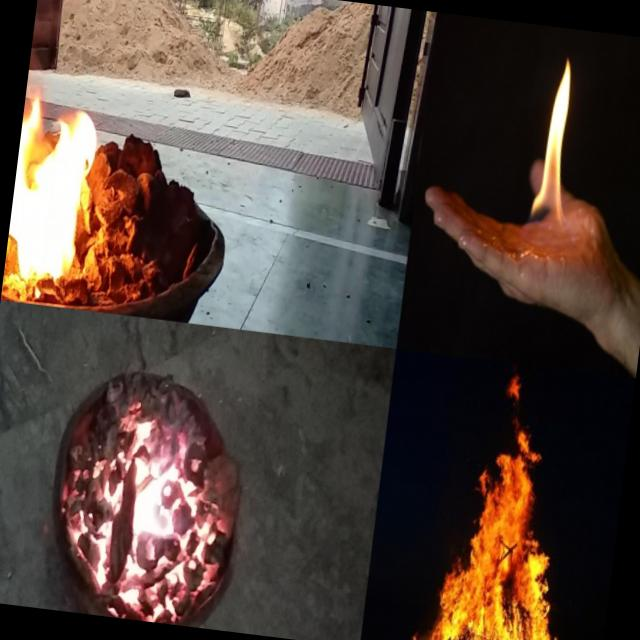fire: (405, 359, 598, 640), (70, 352, 244, 629), (3, 0, 122, 286), (522, 46, 588, 242)
